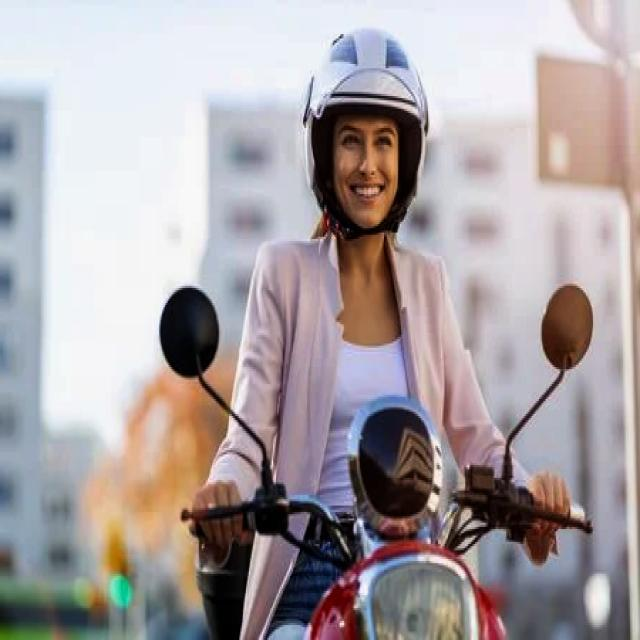helmet: (304, 28, 427, 196)
